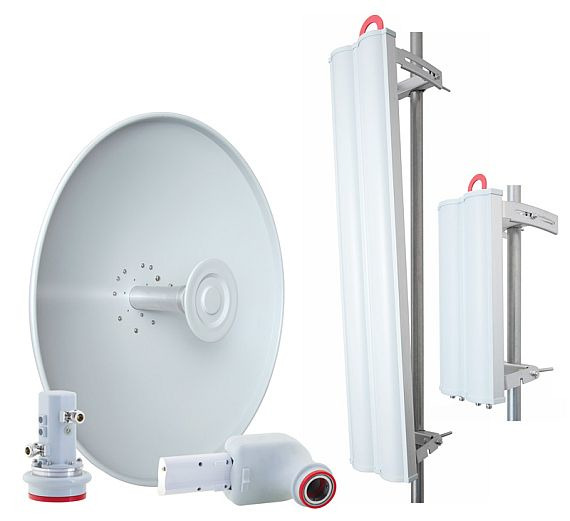sa: (317, 15, 442, 486), (435, 162, 533, 430)
